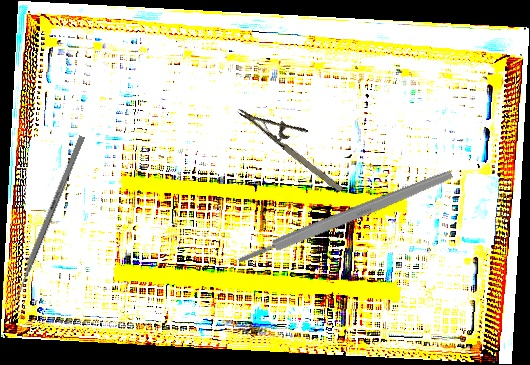Needle Holder: (236, 87, 357, 196)
Pusher: (8, 134, 86, 311)
Scalpel Handle: (235, 167, 455, 267)
